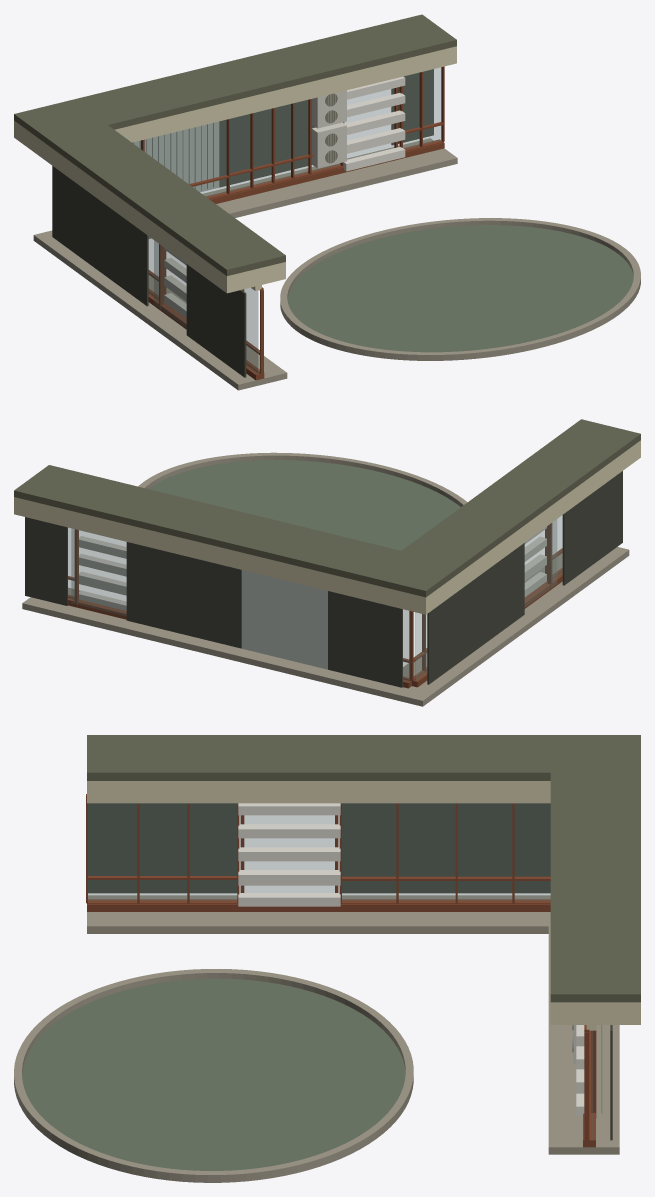
Rendered from full-source.glb.
3 views of the same model, one above another, from view 1: azimuth 30°, elevation 25°; view 2: azimuth 150°, elevation 25°; view 3: azimuth 270°, elevation 25° (orthographic). The views are drawn at different scales.
Parts seen in each view (by area): view 1: 淮阴路姚氏住宅水庭转角长窗与水平格栅; view 2: 淮阴路姚氏住宅水庭转角长窗与水平格栅; view 3: 淮阴路姚氏住宅水庭转角长窗与水平格栅.
Part boxes in pixels (left/top/right/bottom): 淮阴路姚氏住宅水庭转角长窗与水平格栅: left=14, top=14, right=640, bottom=390; 淮阴路姚氏住宅水庭转角长窗与水平格栅: left=14, top=419, right=640, bottom=706; 淮阴路姚氏住宅水庭转角长窗与水平格栅: left=14, top=735, right=640, bottom=1182.
Bounding box in the file's own units: 12.46 × 3.4 × 11.69.
